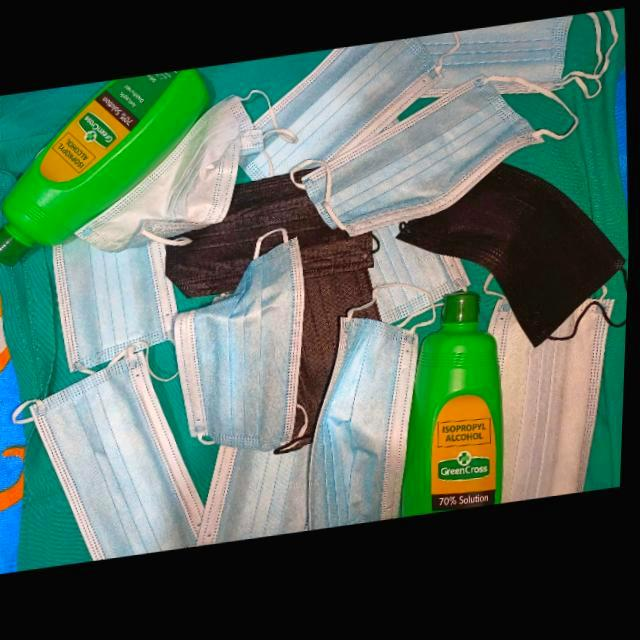plastic_bottle: (0, 72, 217, 267), (402, 301, 507, 526)
